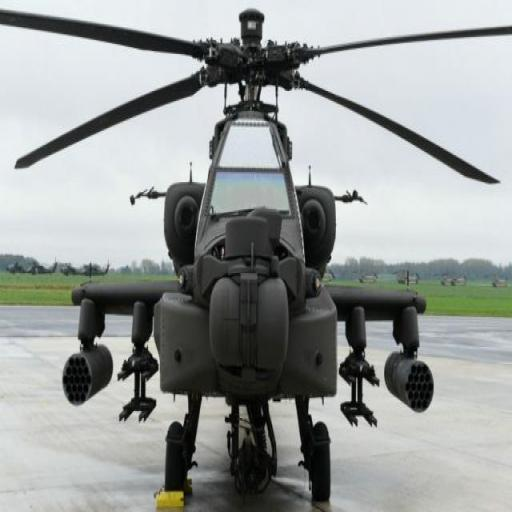helicopter: (57, 7, 443, 510)
